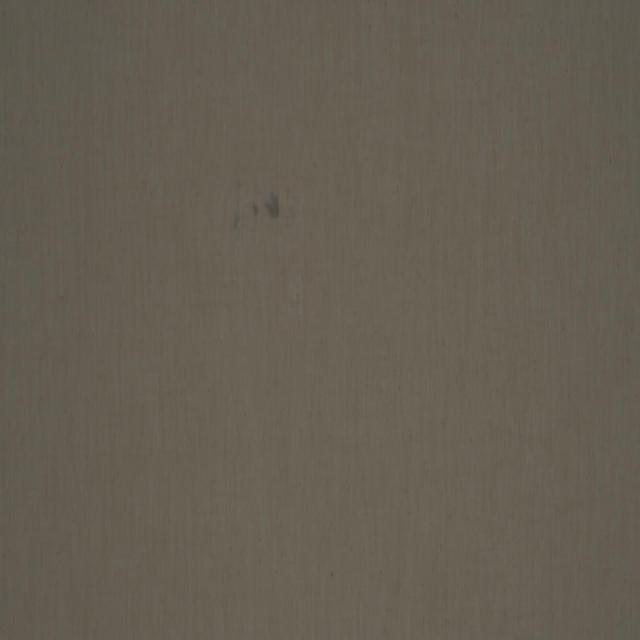dirty: (265, 192, 282, 222), (232, 212, 243, 234), (252, 200, 261, 222)
